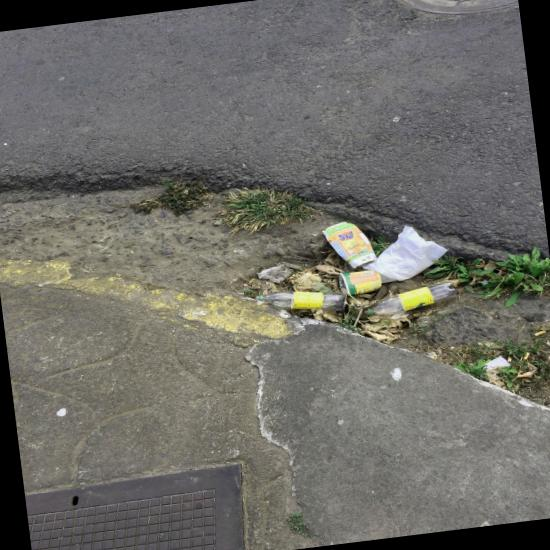Cigarette: (534, 331, 547, 337), (523, 352, 530, 360), (508, 355, 512, 362)
Clear plastic bottle: (363, 281, 457, 316), (256, 291, 347, 311)
Drink carton: (322, 222, 377, 269)
Paper cup: (340, 270, 382, 295)
Plastic film: (362, 226, 448, 283), (257, 266, 293, 284)
Unlabeled litter: (486, 356, 512, 370)
